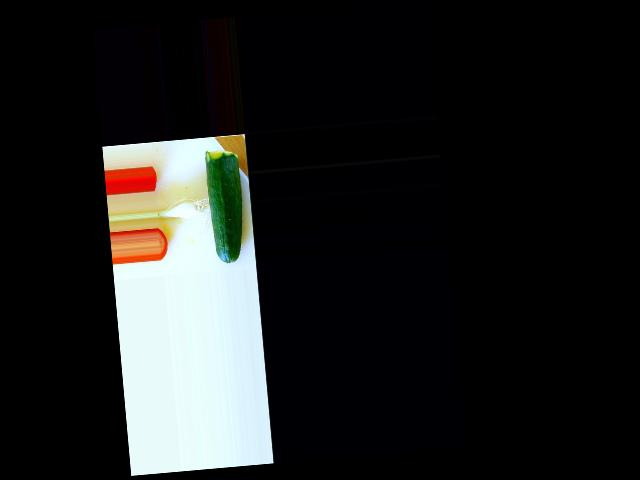cucumber: (205, 148, 248, 265)
